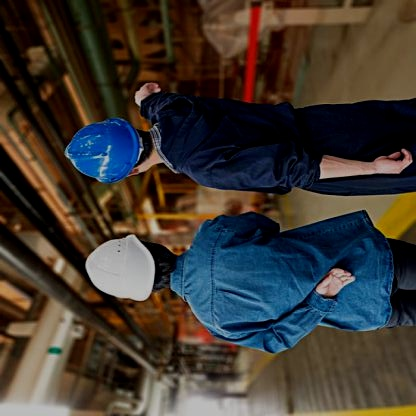blue: (60, 113, 144, 186)
white: (81, 230, 159, 309)
